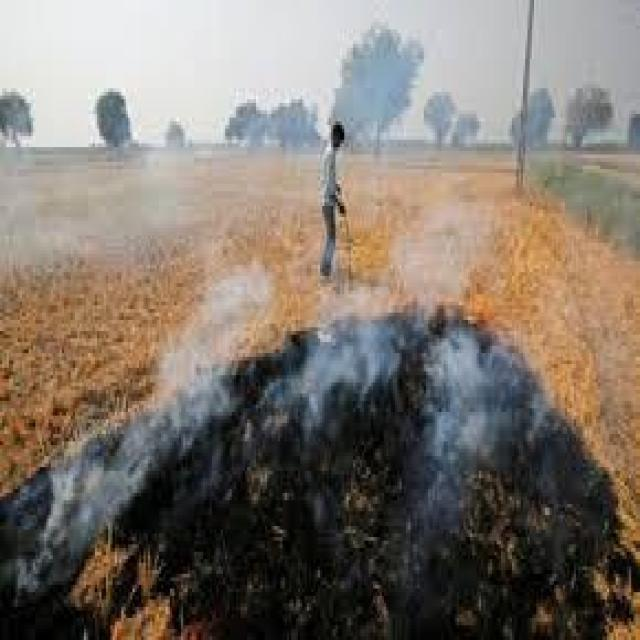Smoke: (415, 302, 529, 524), (286, 242, 434, 404), (151, 274, 274, 425), (11, 146, 180, 248), (42, 444, 194, 544)
